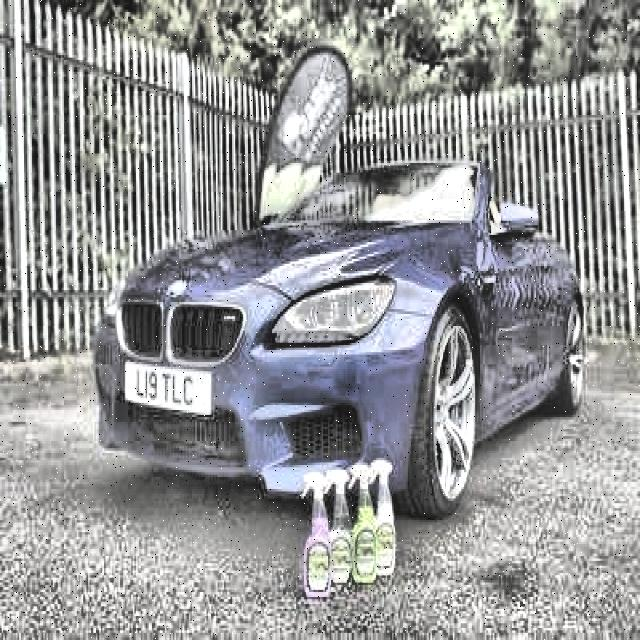license_plate: (125, 363, 208, 418)
